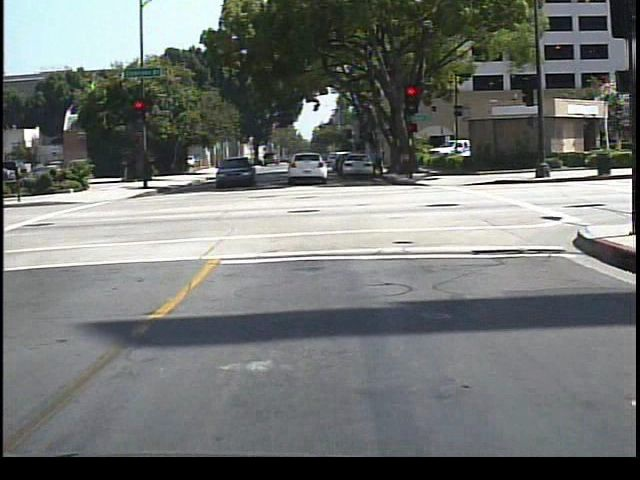person: (366, 144, 389, 185)
